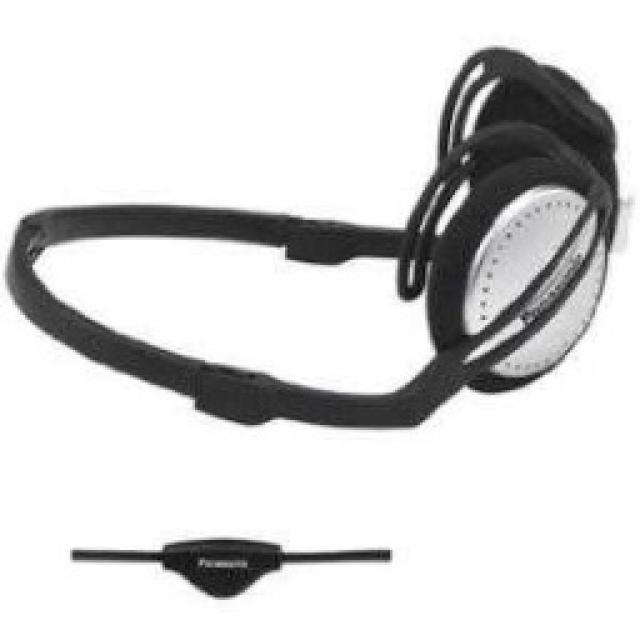headphones: (2, 42, 620, 428)
